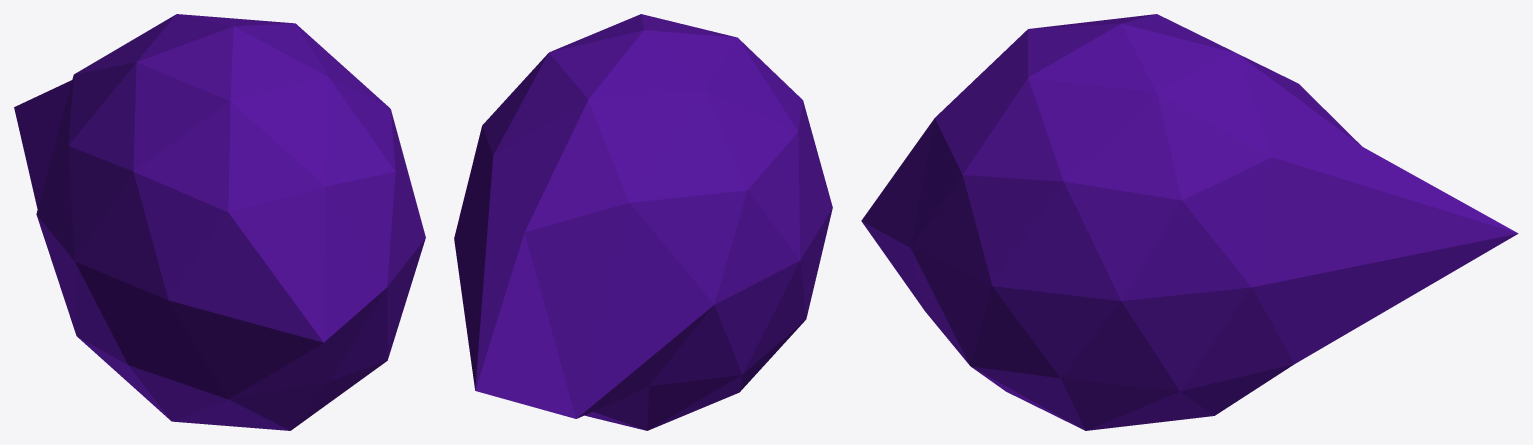
File: mage-ball.glb
3 renders of one model, left to right at view 1: azimuth 30°, elevation 25°; view 2: azimuth 150°, elevation 25°; view 3: azimuth 270°, elevation 25°, orthographic. The views are drawn at different scales.
Visible parts, largest first — view 1: Icosphere; view 2: Icosphere; view 3: Icosphere.
Part boxes in pixels (x1,y1,x2,y2): Icosphere: (14, 14, 425, 430); Icosphere: (454, 14, 832, 430); Icosphere: (861, 14, 1518, 430).
Size of the model in its own units: 1.7 by 2 by 3.
